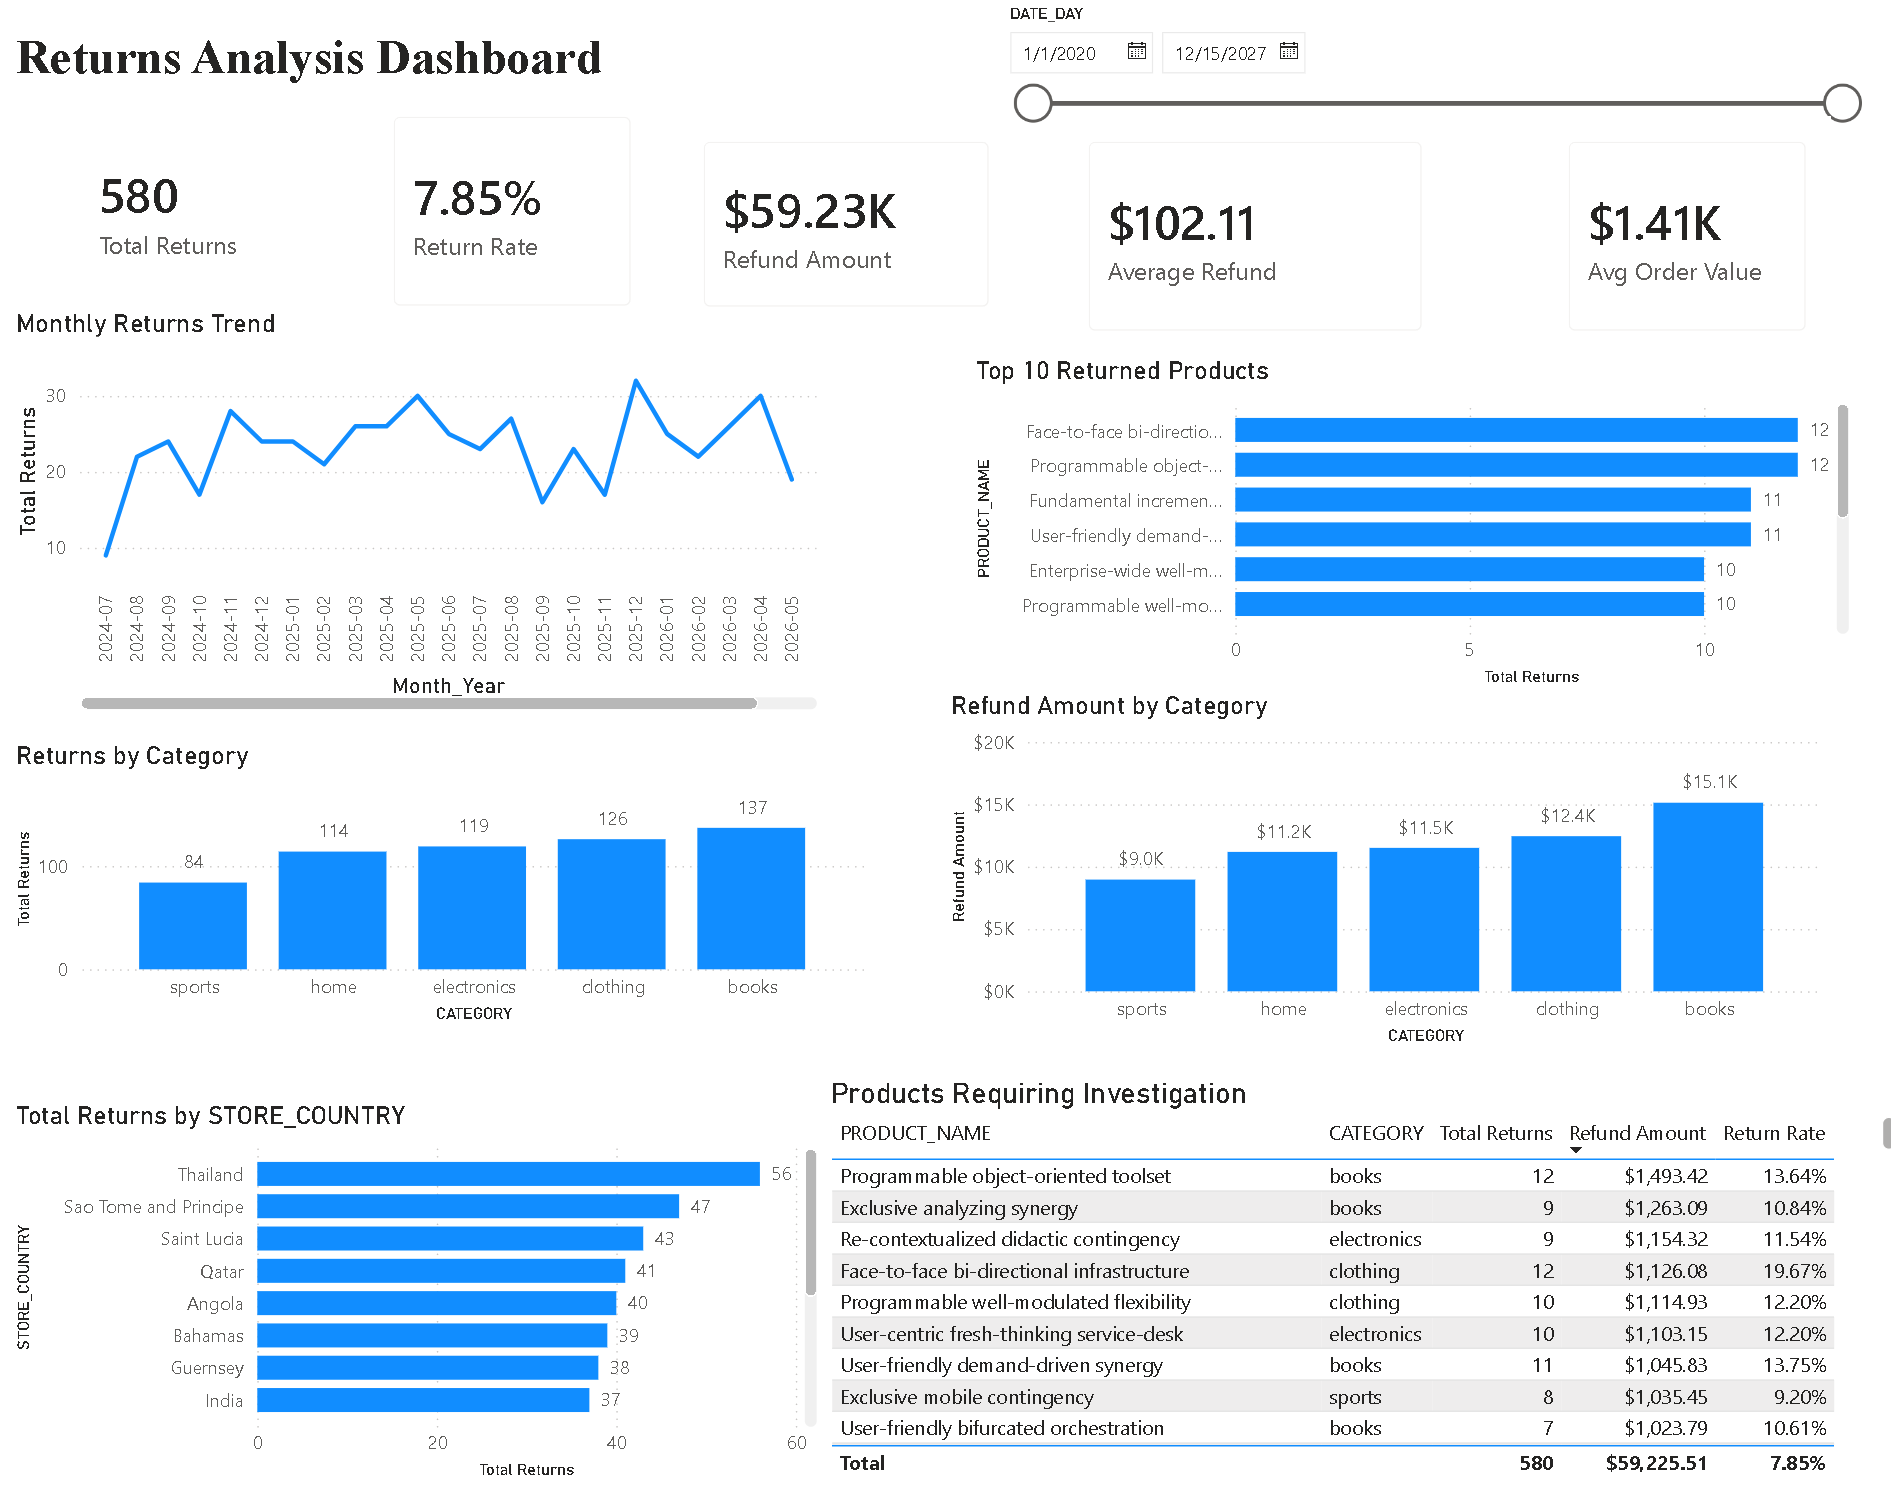

This screenshot's page, from the dashboard's own definition file:
{"tool":"powerbi","page":{"name":"Returns Analysis","canvas":[1280,1000],"ordinal":3},"visuals":[{"type":"textbox","box":[16,16,544,48],"z":0},{"type":"slicer","fields":{"Values":["DIM_DATE.DATE_DAY"]},"box":[672,0,592,96],"z":1000},{"type":"cardVisual","fields":{"Data":["_Measures.Total Returns"]},"box":[48,64,160,160],"z":2000},{"type":"cardVisual","fields":{"Data":["_Measures.Return Rate"]},"box":[256,64,192,160],"z":3000},{"type":"cardVisual","fields":{"Data":["_Measures.Refund Amount"]},"box":[464,80,224,144],"z":4000},{"type":"cardVisual","fields":{"Data":["_Measures.Refund % of Revenue"]},"box":[720,80,256,160],"z":5000},{"type":"cardVisual","fields":{"Data":["_Measures.Avg Order Value"]},"box":[1040,80,192,160],"z":6000},{"type":"lineChart","title":"Monthly Returns Trend","fields":{"Category":["DIM_DATE.YEAR_MONTH"],"Y":["_Measures.Total Returns"]},"box":[16,208,544,272],"z":7000},{"type":"clusteredBarChart","title":"Top 10 Returned Products","fields":{"Category":["DIM_PRODUCT.PRODUCT_NAME"],"Y":["_Measures.Total Returns"]},"box":[656,240,592,224],"z":8000},{"type":"clusteredColumnChart","title":"Returns by Category","fields":{"Category":["DIM_PRODUCT.CATEGORY"],"Y":["_Measures.Total Returns"]},"box":[16,496,576,192],"z":9000},{"type":"clusteredColumnChart","title":"Refund Amount by Category","fields":{"Category":["DIM_PRODUCT.CATEGORY"],"Y":["_Measures.Refund Amount"]},"box":[640,464,592,240],"z":10000},{"type":"clusteredBarChart","fields":{"Category":["DIM_STORE.STORE_COUNTRY"],"Y":["_Measures.Total Returns"]},"box":[16,736,544,256],"z":11000},{"type":"tableEx","title":"Products Requiring Investigation","fields":{"Values":["DIM_PRODUCT.PRODUCT_NAME","DIM_PRODUCT.CATEGORY","_Measures.Total Returns","_Measures.Refund Amount","_Measures.Return Rate"]},"box":[560,720,720,272],"z":12000}]}

Visuals, with their boxes in screenshot pixels (x1, y1, x2, y2), scaled from the page's 1280x1000 canvas onto the 1891x1493 screenshot:
textbox: <box>24,24,827,96</box>
slicer - DIM_DATE.DATE_DAY: <box>993,0,1867,143</box>
cardVisual - _Measures.Total Returns: <box>71,96,307,334</box>
cardVisual - _Measures.Return Rate: <box>378,96,662,334</box>
cardVisual - _Measures.Refund Amount: <box>685,119,1016,334</box>
cardVisual - _Measures.Refund % of Revenue: <box>1064,119,1442,358</box>
cardVisual - _Measures.Avg Order Value: <box>1536,119,1820,358</box>
"Monthly Returns Trend" lineChart: <box>24,311,827,717</box>
"Top 10 Returned Products" clusteredBarChart: <box>969,358,1844,693</box>
"Returns by Category" clusteredColumnChart: <box>24,741,875,1027</box>
"Refund Amount by Category" clusteredColumnChart: <box>946,693,1820,1051</box>
clusteredBarChart - DIM_STORE.STORE_COUNTRY x _Measures.Total Returns: <box>24,1099,827,1481</box>
"Products Requiring Investigation" tableEx: <box>827,1075,1890,1481</box>
